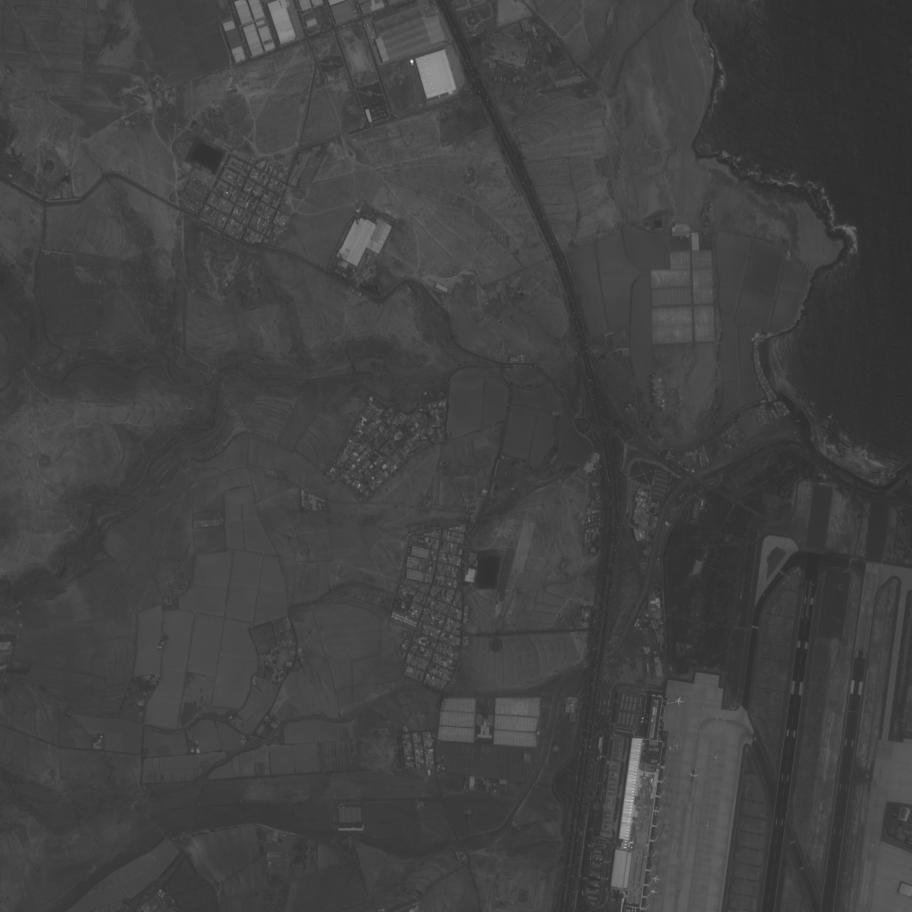plane: (687, 767, 700, 783), (673, 695, 686, 708), (651, 874, 663, 885), (649, 886, 660, 898), (712, 752, 722, 763), (703, 820, 713, 831), (673, 741, 683, 751)
